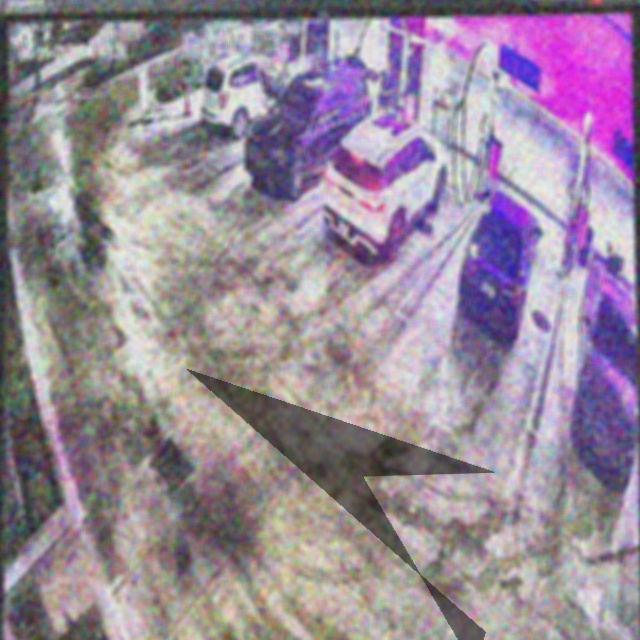Car: (326, 111, 448, 261), (243, 64, 375, 202), (457, 189, 544, 344)
